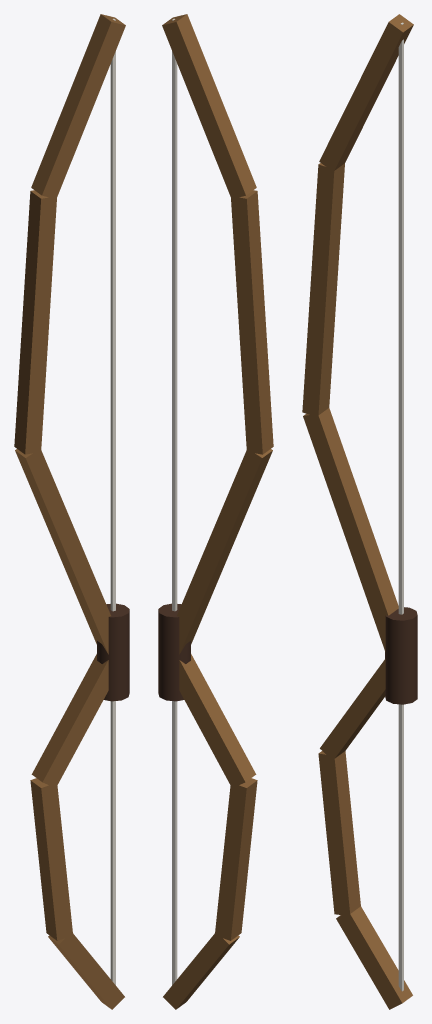
Rendered from samurai-yumi.glb.
3 views of the same model, side by side, from view 1: azimuth 30°, elevation 25°; view 2: azimuth 150°, elevation 25°; view 3: azimuth 330°, elevation 25° (orthographic).
Parts seen in each view (by area): view 1: BowLimb (×6), String, Grip; view 2: BowLimb (×6), String, Grip; view 3: BowLimb (×6), String, Grip.
Boxes of the visible parts, x1,y1,x2,y2 form: BowLimb (×6): [14, 14, 125, 1009]; String: [110, 18, 115, 985]; Grip: [97, 603, 129, 701]; BowLimb (×6): [162, 14, 273, 1009]; String: [172, 18, 177, 985]; Grip: [158, 603, 190, 701]; BowLimb (×6): [302, 14, 413, 1009]; String: [398, 22, 403, 991]; Grip: [385, 607, 417, 704].
Size of the model in its own units: 0.2006 by 1.77 by 0.054.
